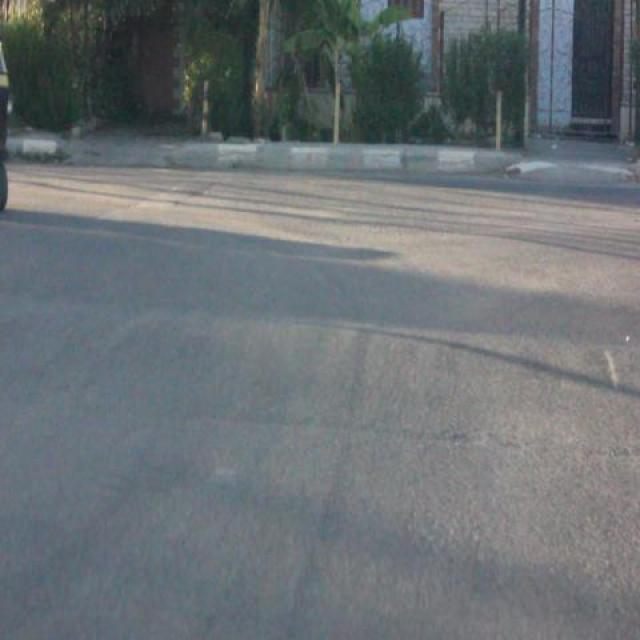Unmarked Bump: (320, 322, 640, 458), (0, 301, 319, 432)
